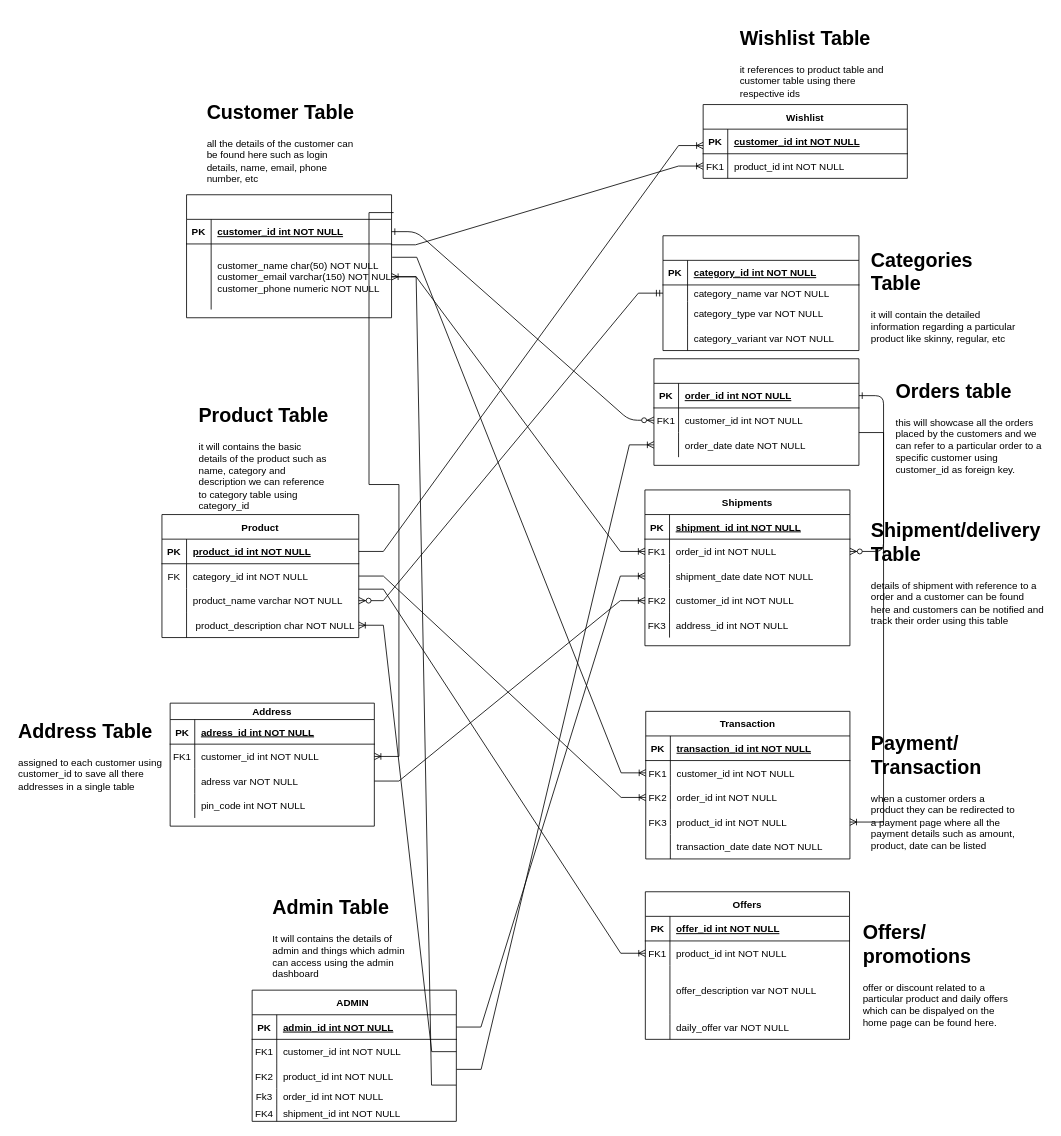
The diagram is 1061 pixels wide and 1136 high, and some of its shapes have lost their labels. The shapes that lost their labels are listed below. From the top down, each one's box as (x1, y1, x2, y2) in pixels, then its label:
(186, 194, 392, 318): Customers
(662, 235, 859, 351): Categories
(653, 358, 859, 465): Orders
